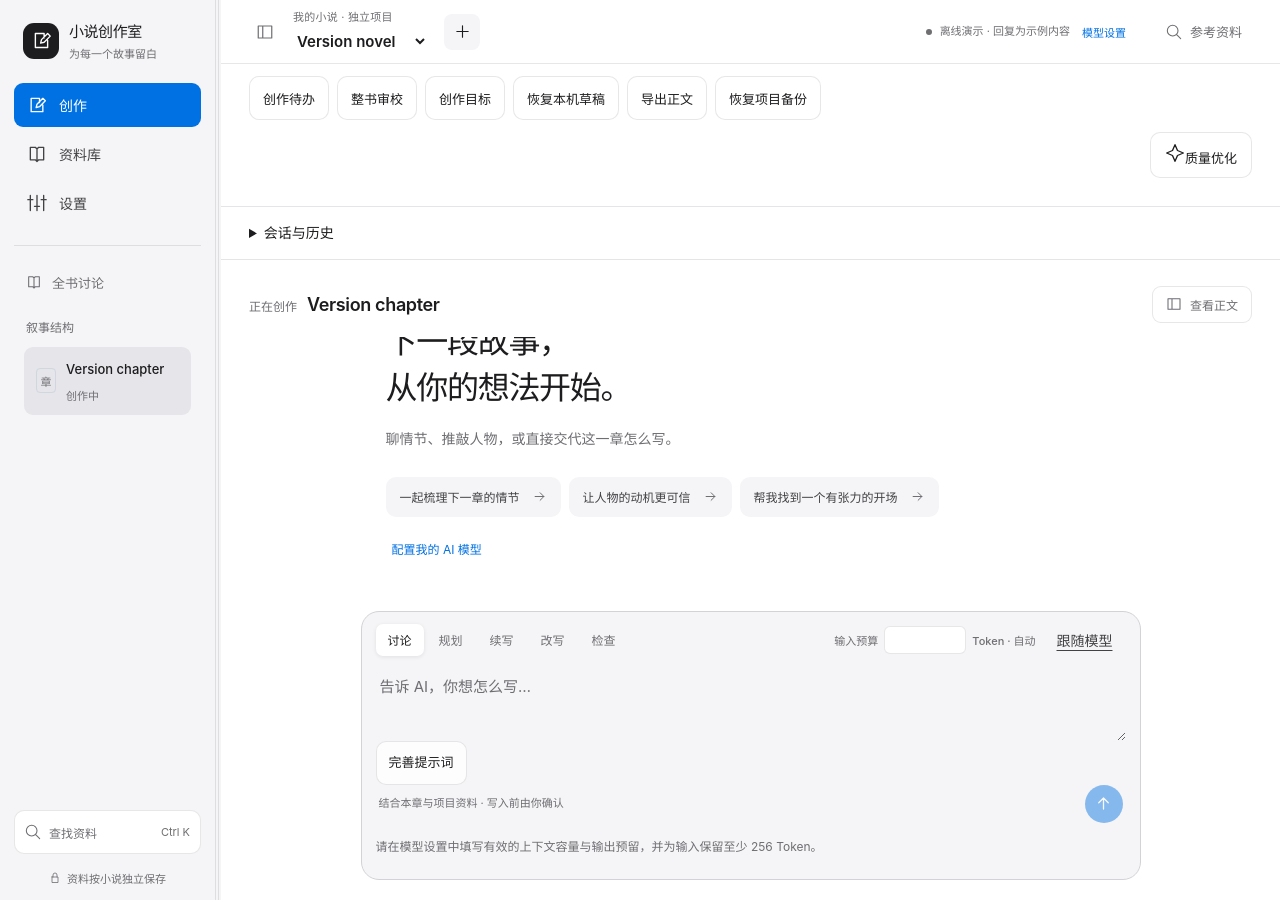
Test: chapter version pagination › uses only the summary page endpoint and appends an encoded next page
The width and height of the screenshot is (1280, 900).
(page scrolled)
Check: the text box named "给 AI 的消息" is shown, box [376,658,1126,741]
Click the button "查看正文". click: (1202, 304)
box: [1152,286,1252,323]
(page scrolled)
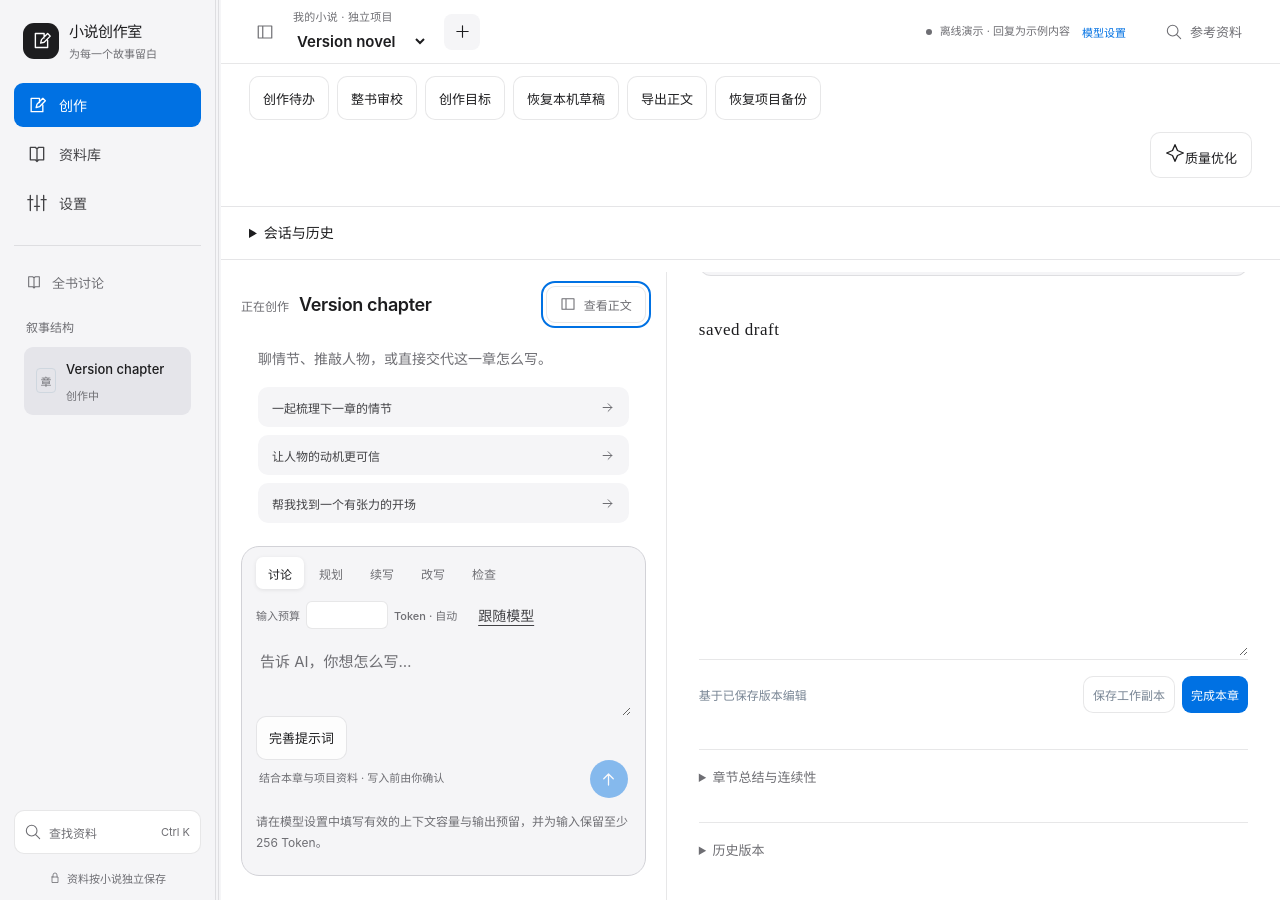
Click the heading "历史版本". click: (738, 850)
box: [712,842,764,858]
(page scrolled)
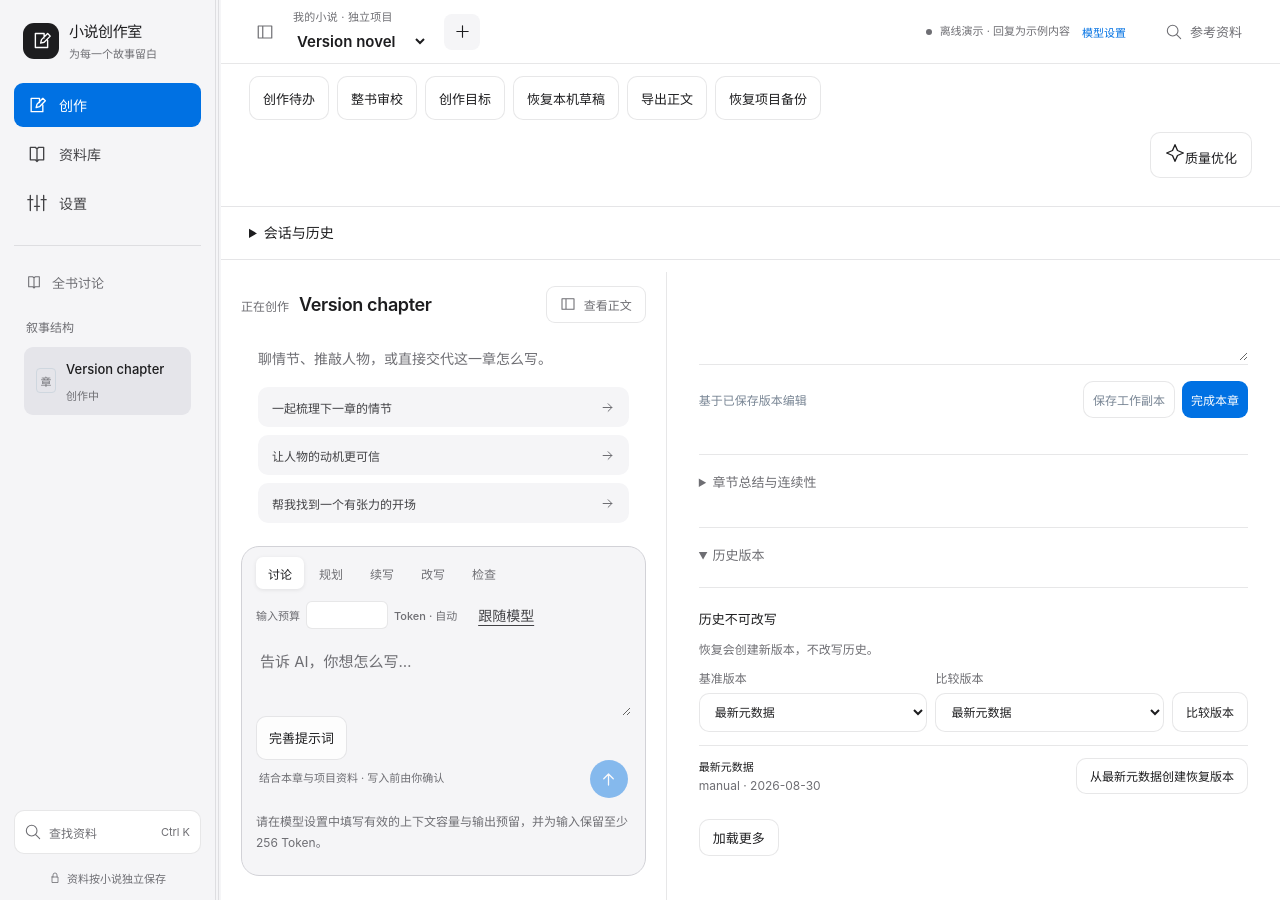
Check: the text "最新元数据" is shown, box [699,760,754,774]
Click the button "加载更多". click: (739, 837)
box: [699,819,779,856]
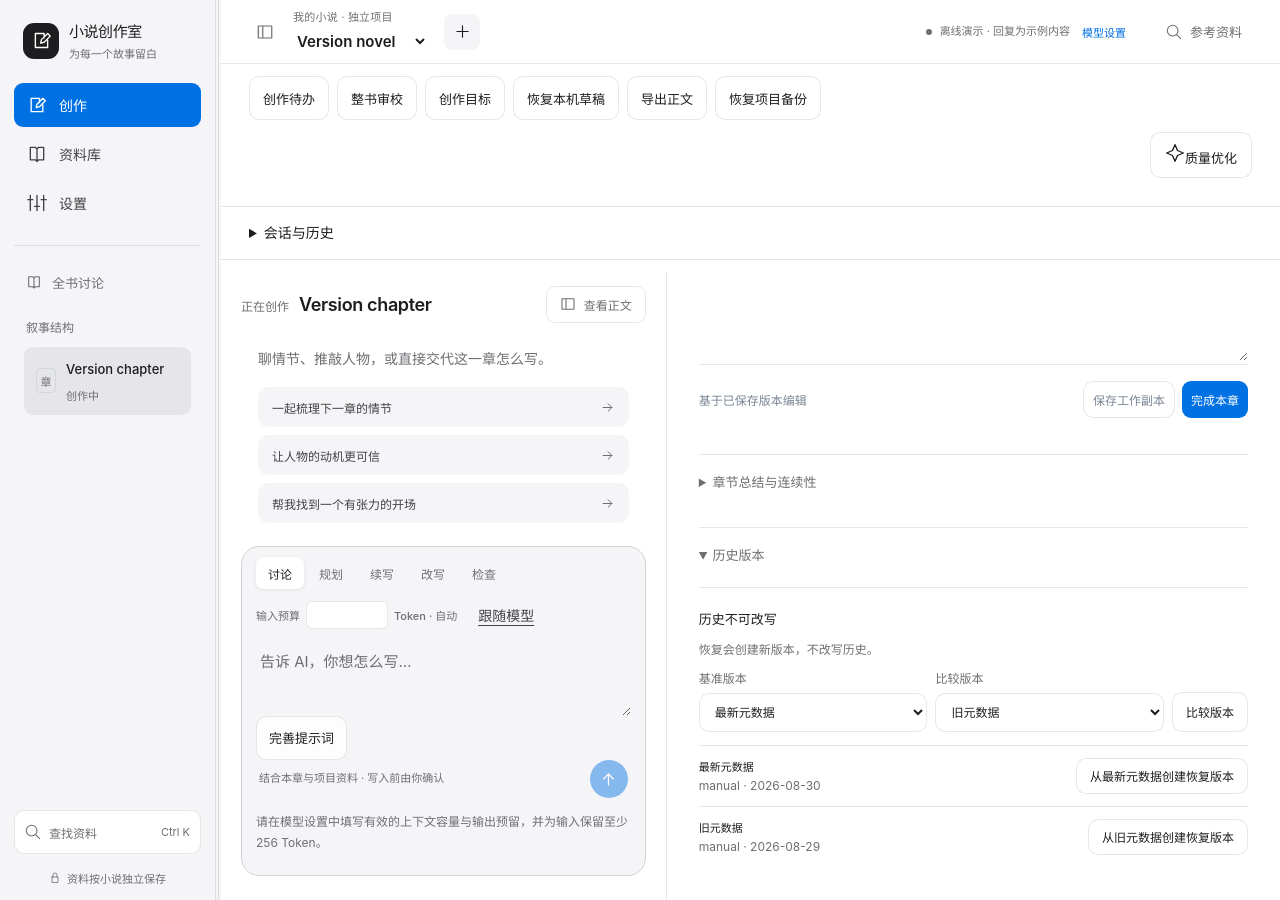
Check: the text "最新元数据" is shown, box [699,760,754,774]
Check: the text "旧元数据" is shown, box [699,821,743,835]
